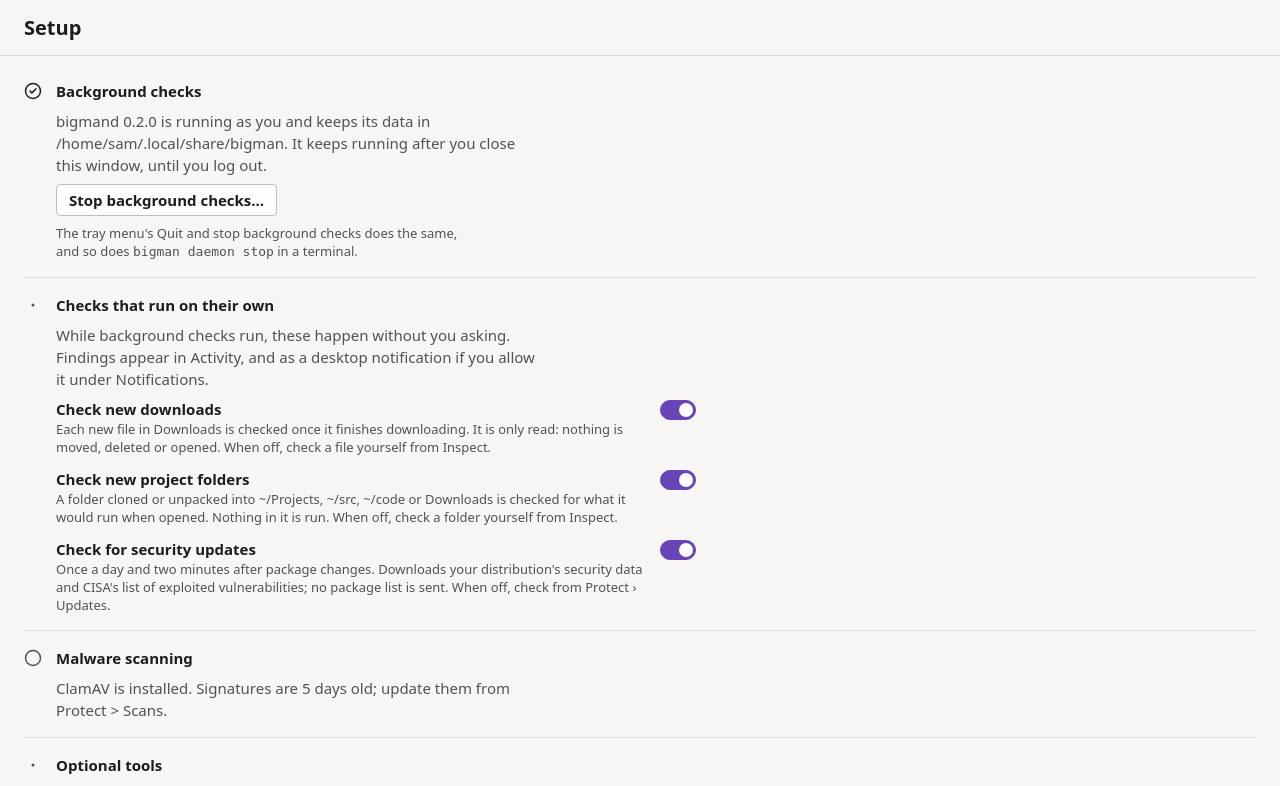
it: Setup checks that run on their own › turns the Downloads watch off and shows it as off, not as a gap
Click the switch named "Check new downloads" in the row of "Check new downloads" at x=678, y=410, box x1=660 y1=400 x2=696 y2=420
(page scrolled)
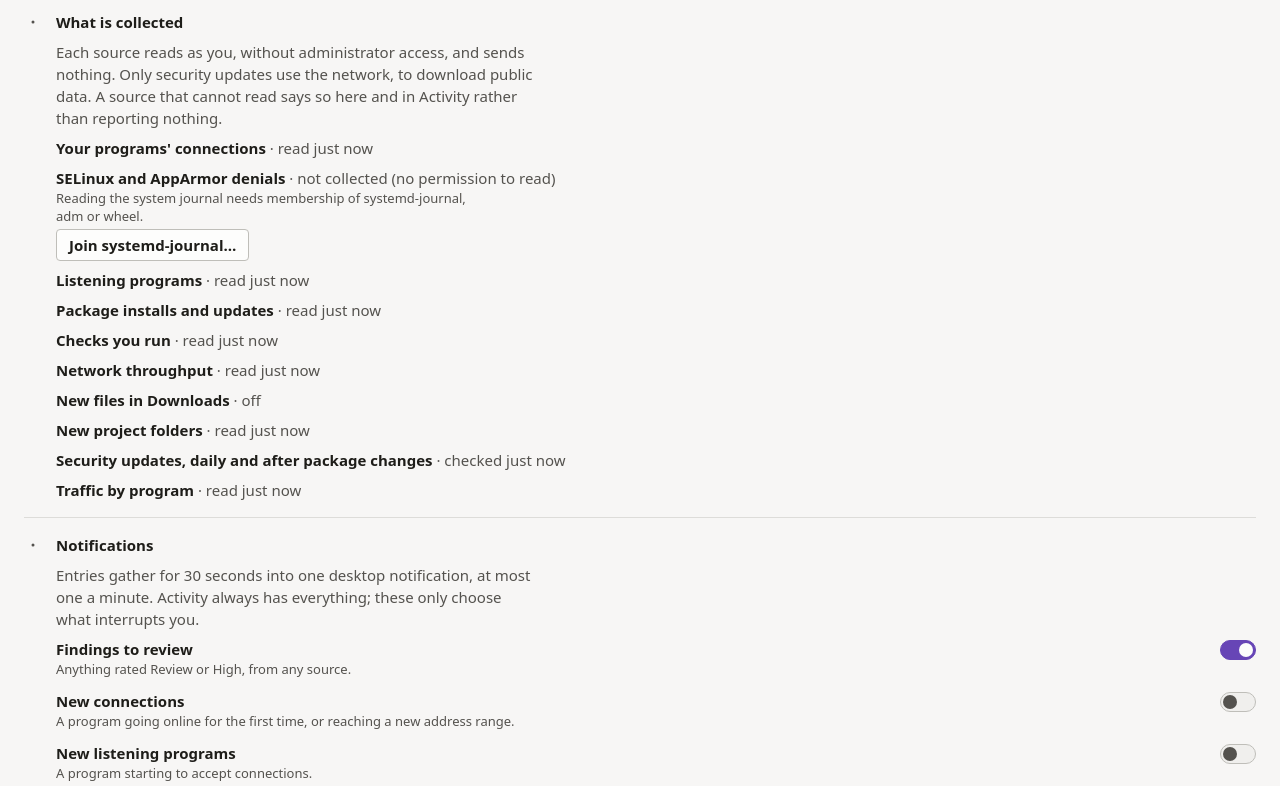
Result: the text "· off" is shown at x1=230 y1=390 x2=261 y2=410
